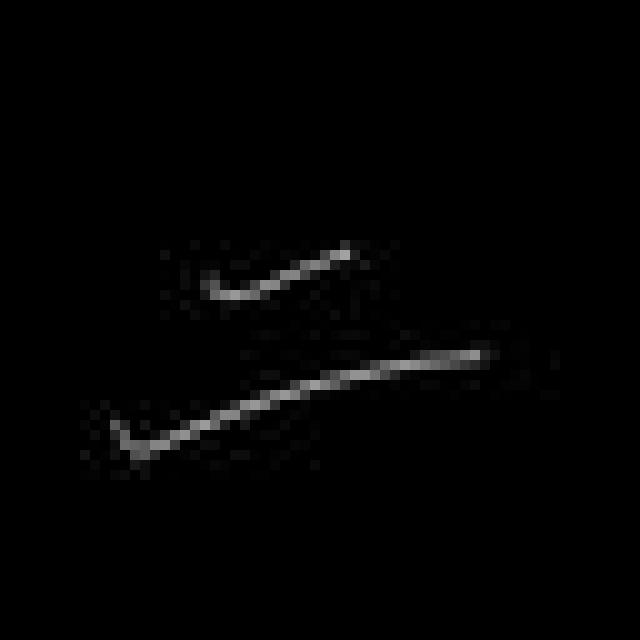2 -two-: (94, 237, 499, 464)
